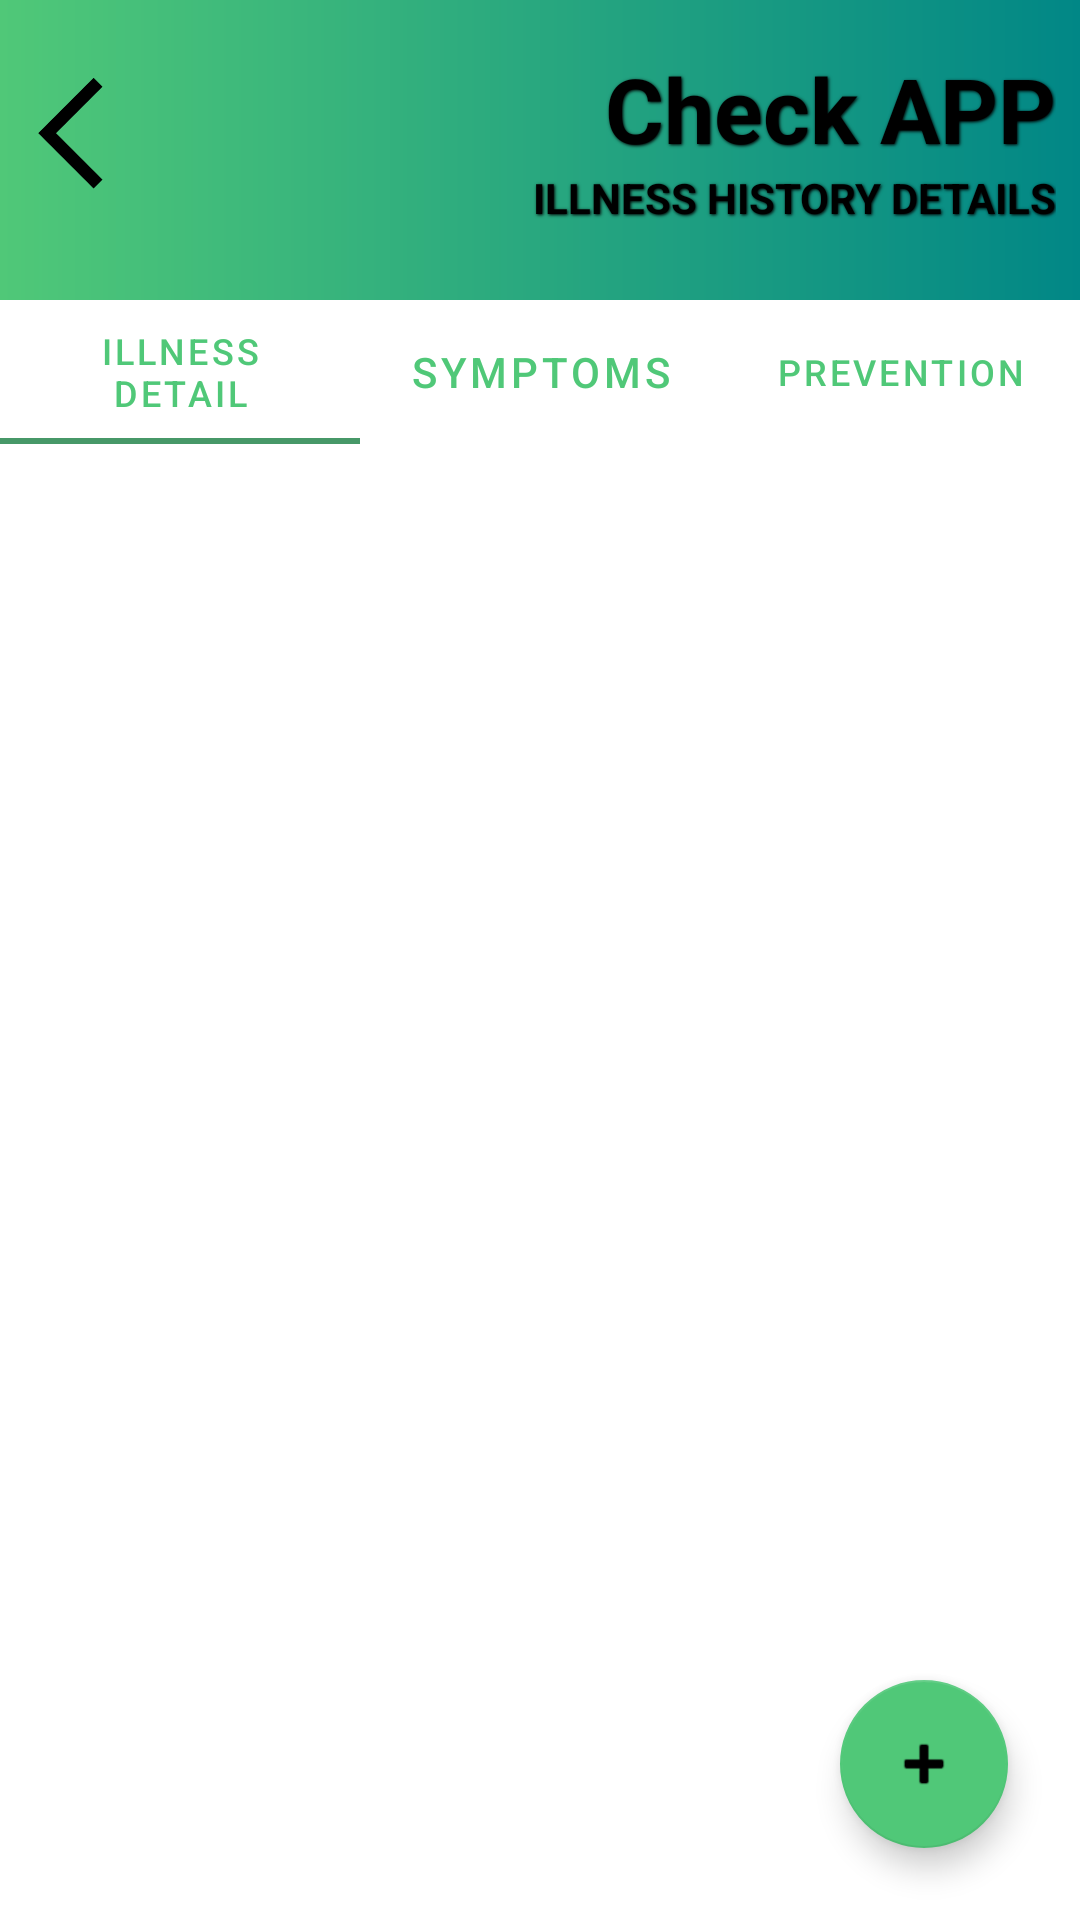

Where to tap for icons on this 1080 × 1920 app screen, as point (x, y):
add: point (924, 1764)
backbutton: point (70, 133)
